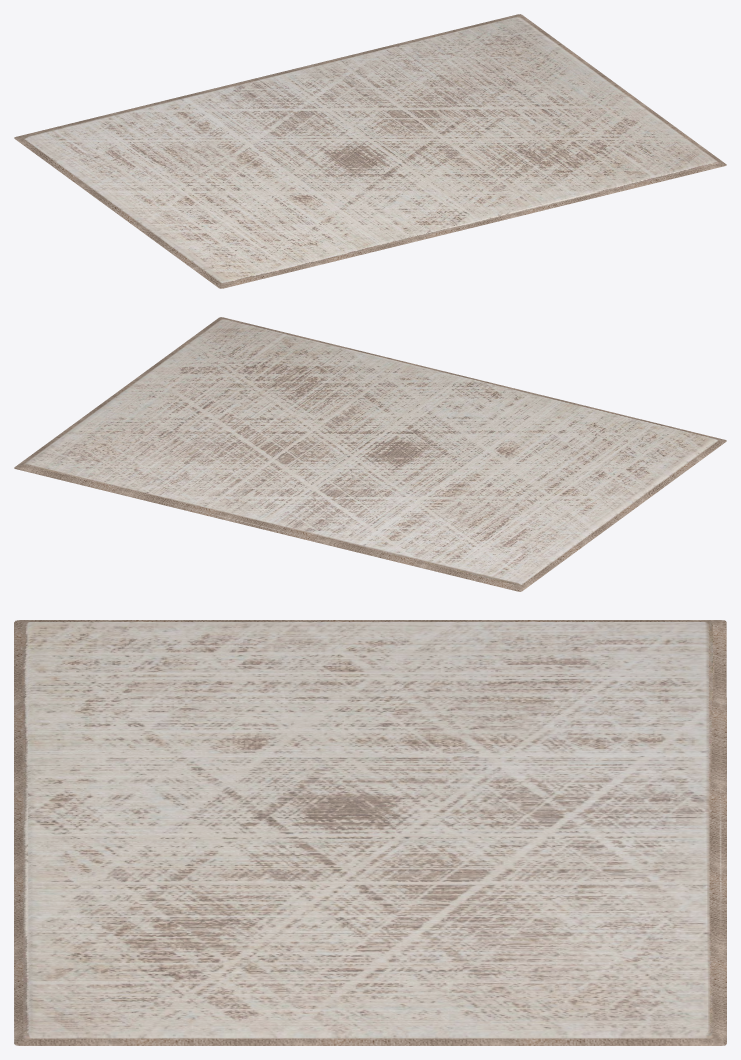
Rendered from SM_Rug_D1.fbx.
3 views of the same model, one above another, from view 1: azimuth 30°, elevation 25°; view 2: azimuth 150°, elevation 25°; view 3: azimuth 270°, elevation 25° (orthographic). The views are drawn at different scales.
Visible parts, largest first — view 1: SM_Rug_D1; view 2: SM_Rug_D1; view 3: SM_Rug_D1.
Boxes of the visible parts, box(x1,y1,x2,y2) form: SM_Rug_D1: box(14, 14, 726, 288); SM_Rug_D1: box(14, 317, 726, 591); SM_Rug_D1: box(14, 620, 726, 1045).
Size of the model in its own units: 136 by 96.23 by 0.7028.
1 material, 1 textured.
